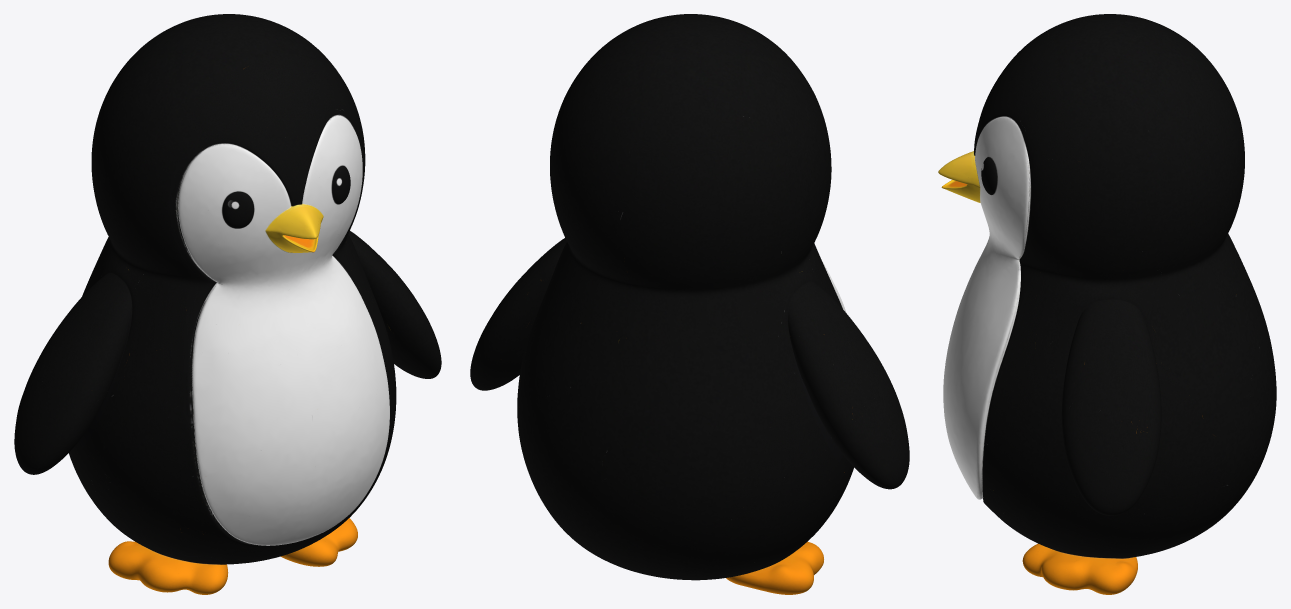
File: Penguin.glb
3 renders of one model, left to right at view 1: azimuth 30°, elevation 25°; view 2: azimuth 150°, elevation 25°; view 3: azimuth 270°, elevation 25°, orthographic. The views are drawn at different scales.
Bounding box in the file's own units: 1.56 × 1.9 × 1.12.
1 material, 1 textured.
